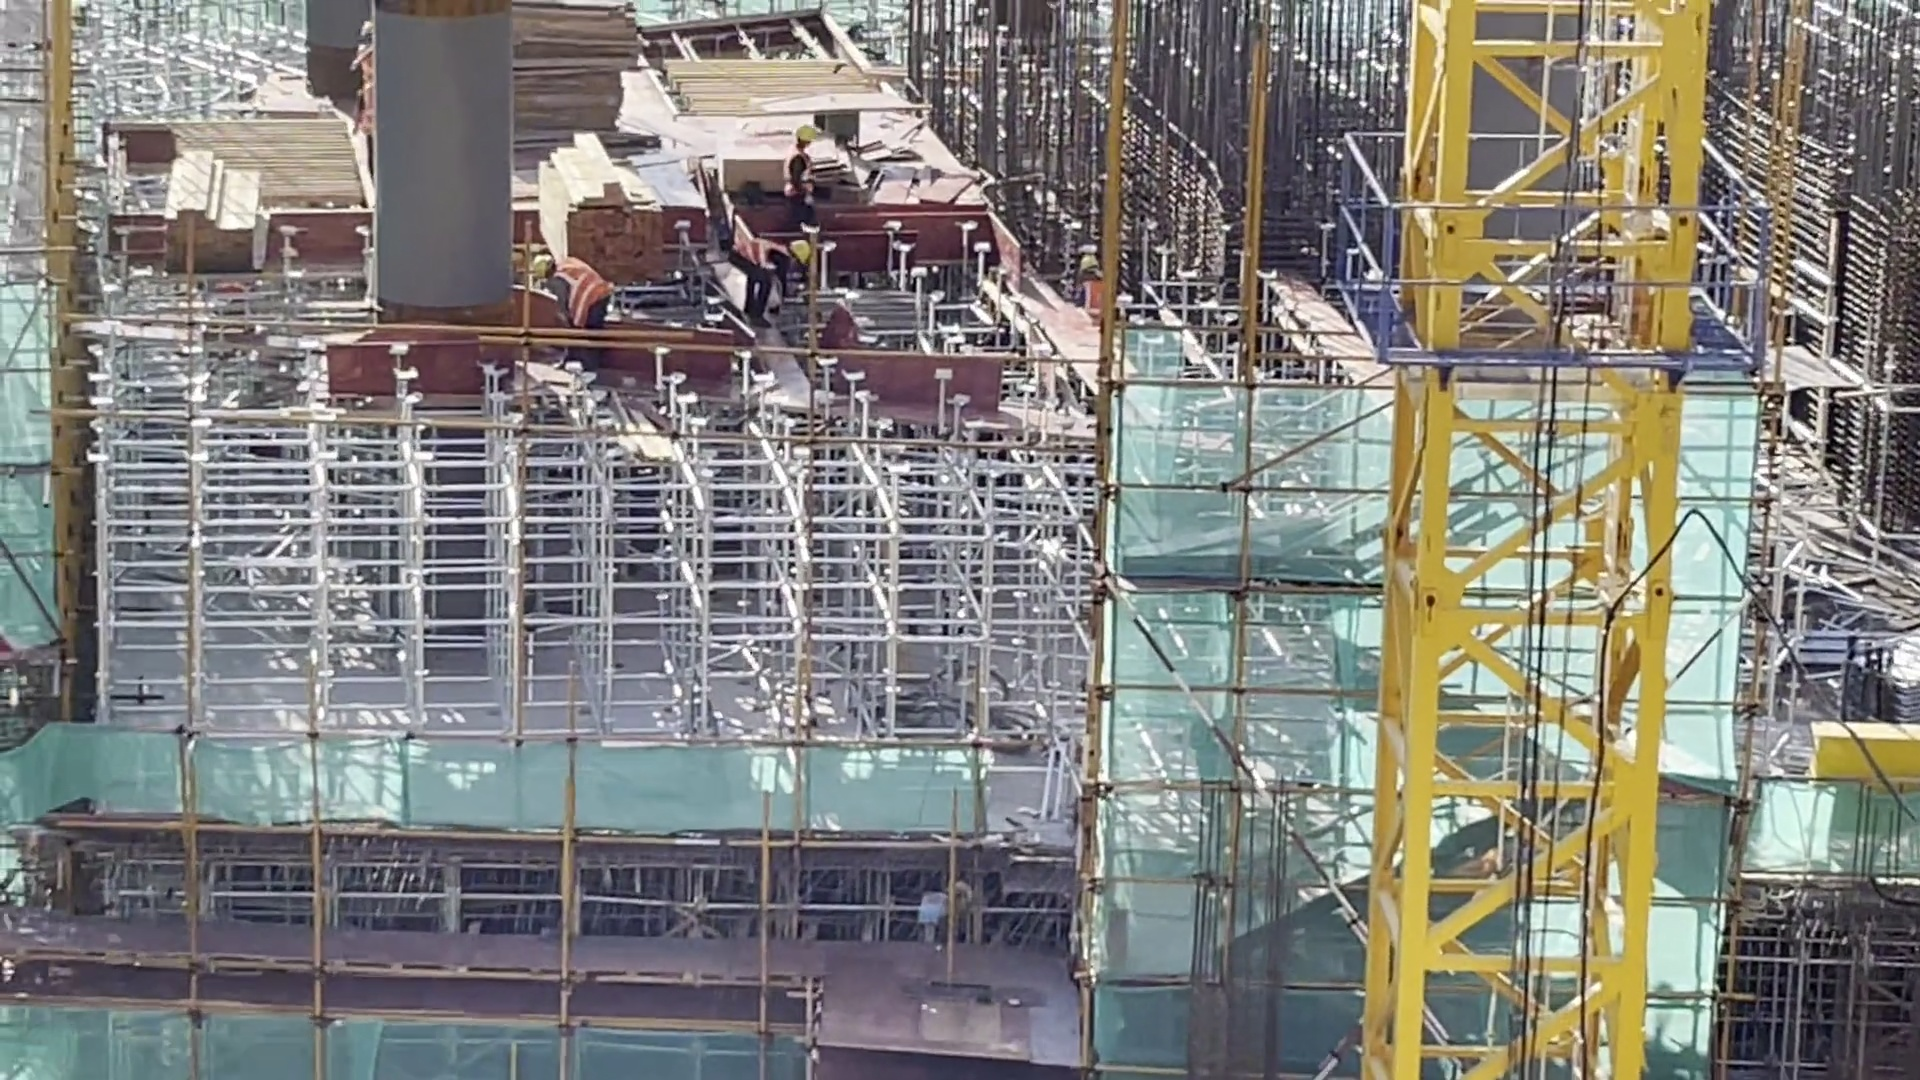board: (493, 1, 641, 146)
ebox: (1803, 724, 1920, 821)
helmet: (356, 23, 384, 61), (793, 239, 814, 265), (798, 131, 816, 151), (1082, 253, 1096, 275), (546, 259, 555, 283)
person: (323, 10, 386, 161), (528, 230, 601, 348), (726, 248, 802, 303), (792, 130, 825, 237), (1073, 260, 1118, 326)
scaffold: (1843, 619, 1920, 712)
vest: (555, 262, 607, 314), (718, 233, 785, 270), (357, 57, 376, 145), (794, 156, 816, 215), (1080, 281, 1115, 318)
wood: (566, 162, 663, 277)
